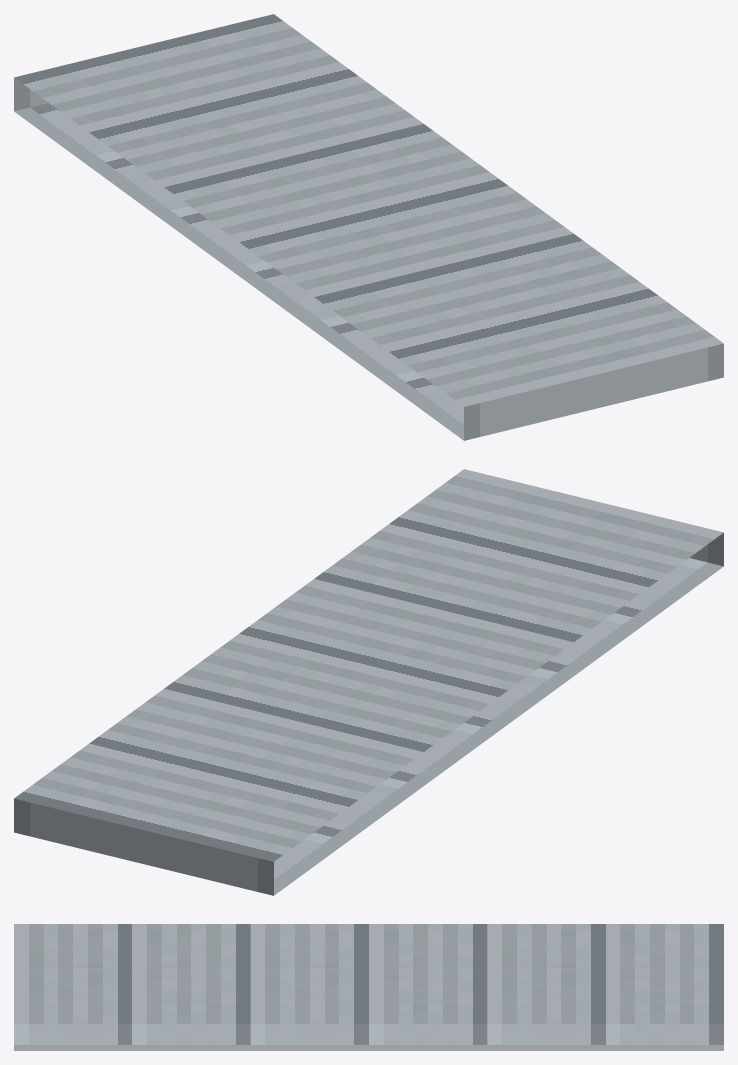
File: commercial_run_3.obj
3 views of the same model, one above another, from view 1: azimuth 30°, elevation 25°; view 2: azimuth 150°, elevation 25°; view 3: azimuth 270°, elevation 25° (orthographic). The views are drawn at different scales.
Visible parts, largest first — view 1: run; view 2: run; view 3: run.
Part boxes in pixels (box(x1,y1,x2,y2)): run: box(14, 14, 723, 440); run: box(14, 469, 723, 895); run: box(14, 924, 723, 1050).
Size of the model in its own units: 1 by 0.125 by 3.
